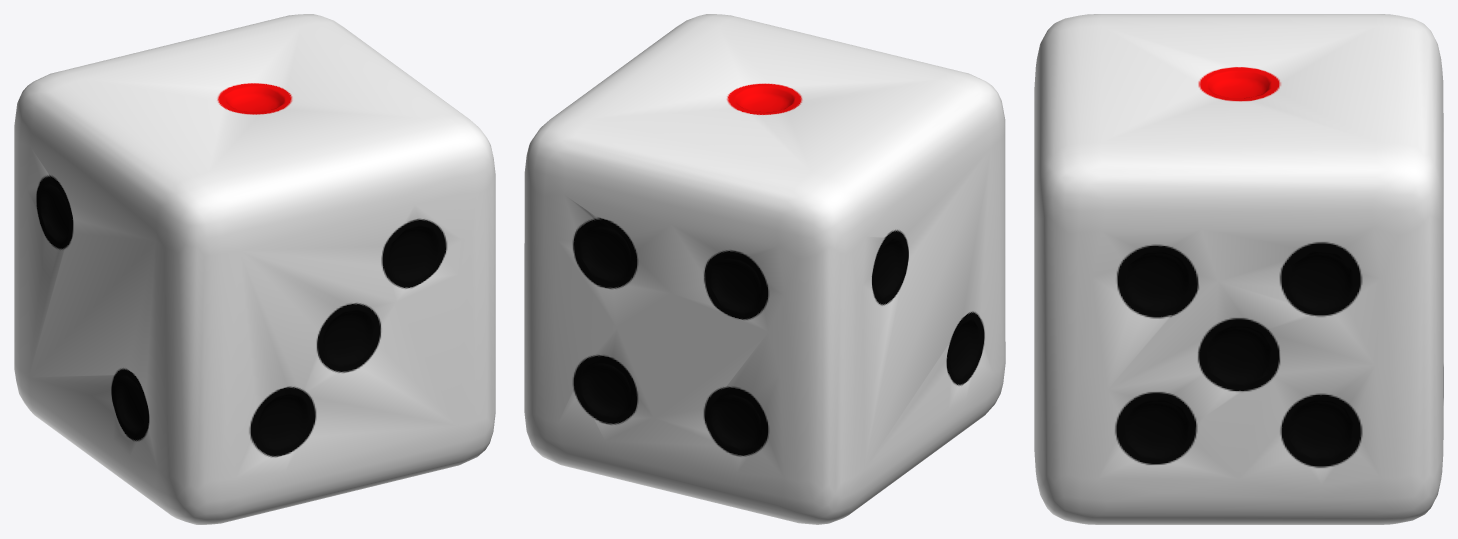
Rendered from dice.obj.
3 views of the same model, side by side, from view 1: azimuth 30°, elevation 25°; view 2: azimuth 150°, elevation 25°; view 3: azimuth 270°, elevation 25° (orthographic). The views are drawn at different scales.
Visible parts, largest first — view 1: Cube; view 2: Cube; view 3: Cube.
Boxes of the visible parts, x1=… form: Cube: x1=14, y1=14, x2=495, y2=524; Cube: x1=524, y1=14, x2=1005, y2=524; Cube: x1=1034, y1=14, x2=1443, y2=524.
Bounding box in the file's own units: 1.31 × 1.31 × 1.31.
2 materials, 2 textured.
